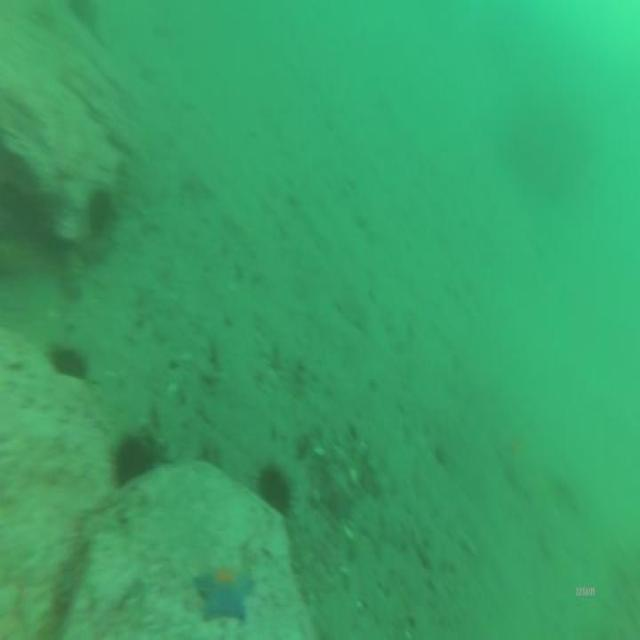echinus: (253, 456, 300, 522), (112, 431, 158, 487), (46, 338, 92, 386), (86, 185, 114, 243)
starfish: (190, 561, 258, 626)
